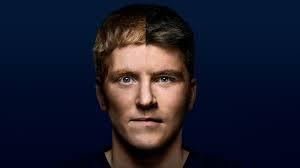Persons: (89, 6, 206, 154)
